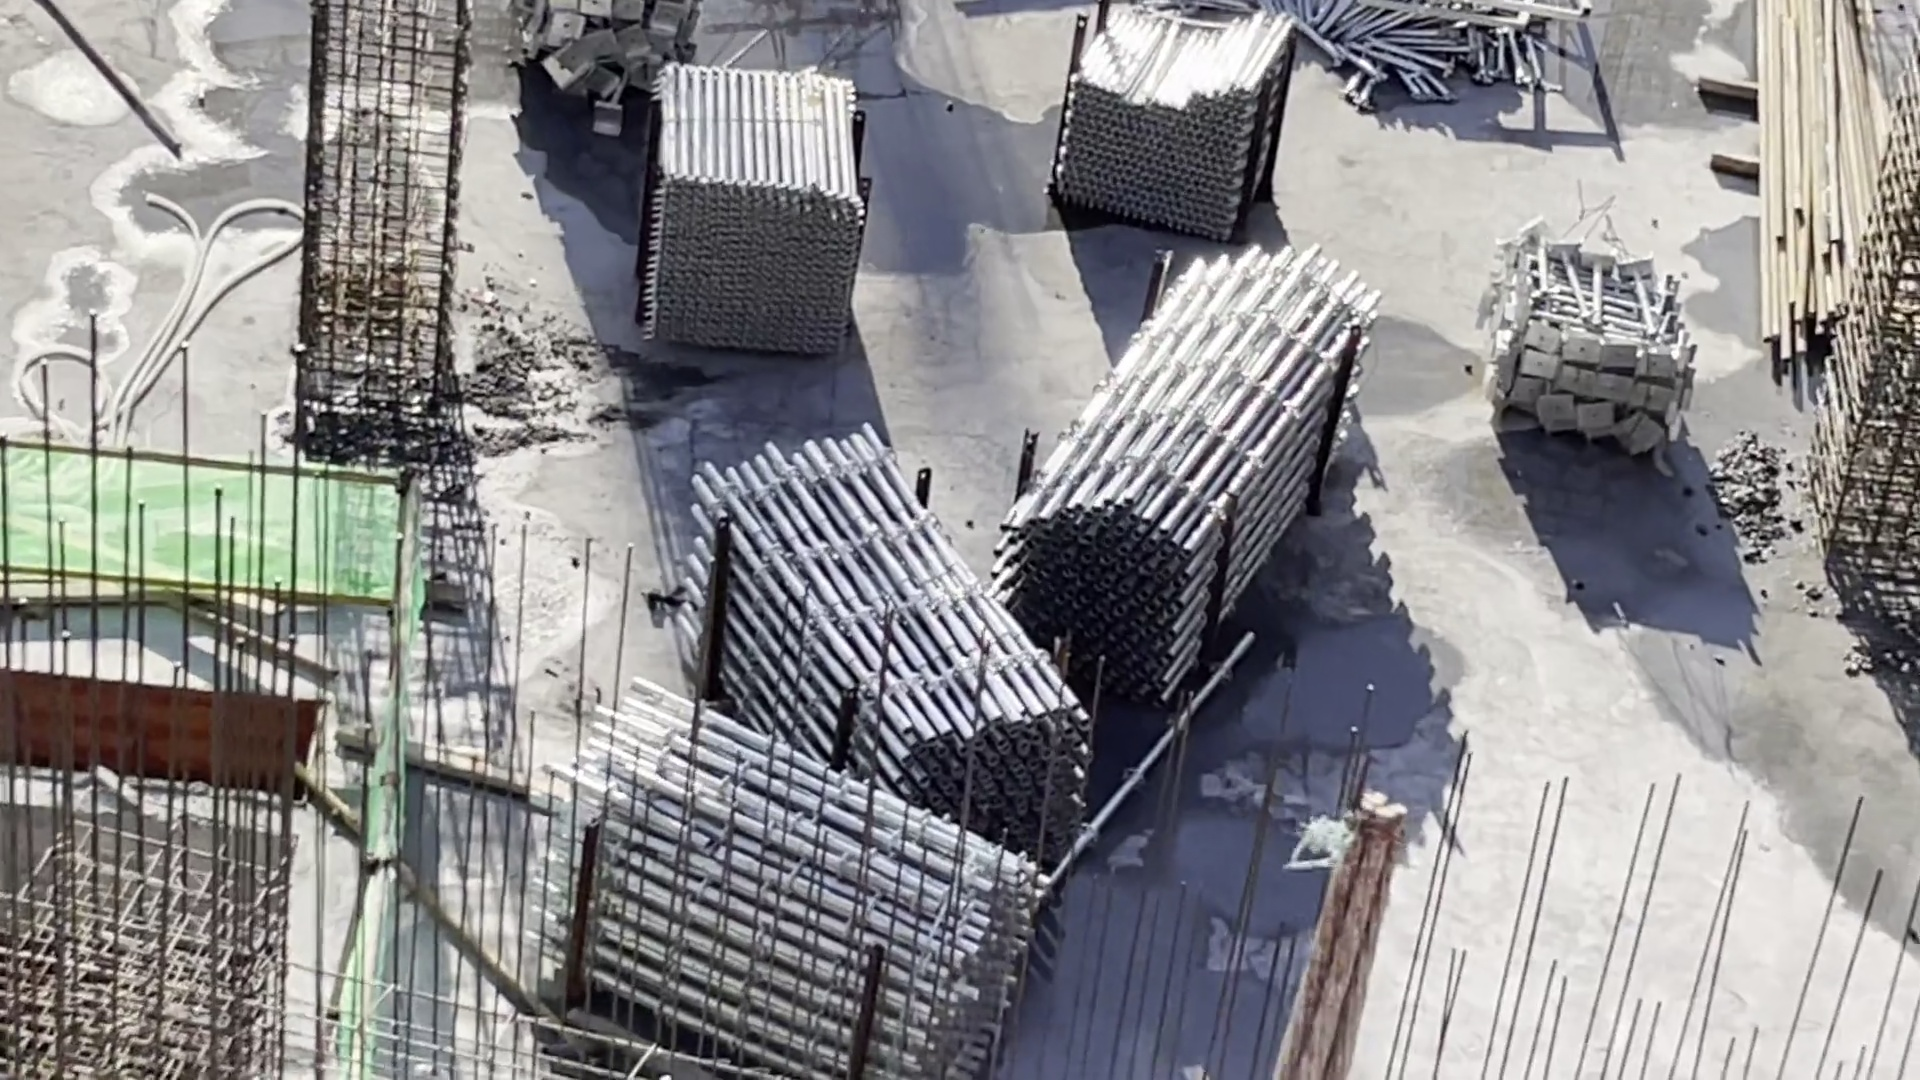scaffold: (684, 407, 1083, 876), (538, 698, 1019, 1080), (1021, 232, 1361, 694), (626, 69, 887, 345), (1058, 7, 1294, 212), (1502, 222, 1687, 477), (1300, 1, 1586, 112), (496, 1, 707, 138)
